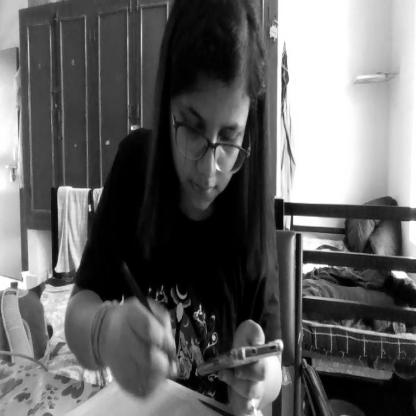Normal: (166, 0, 256, 222)
